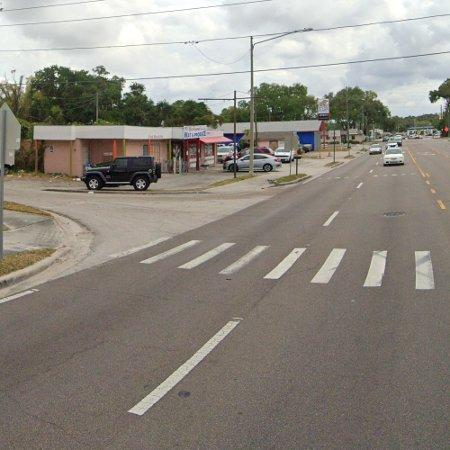crosswalks: (110, 233, 436, 290)
